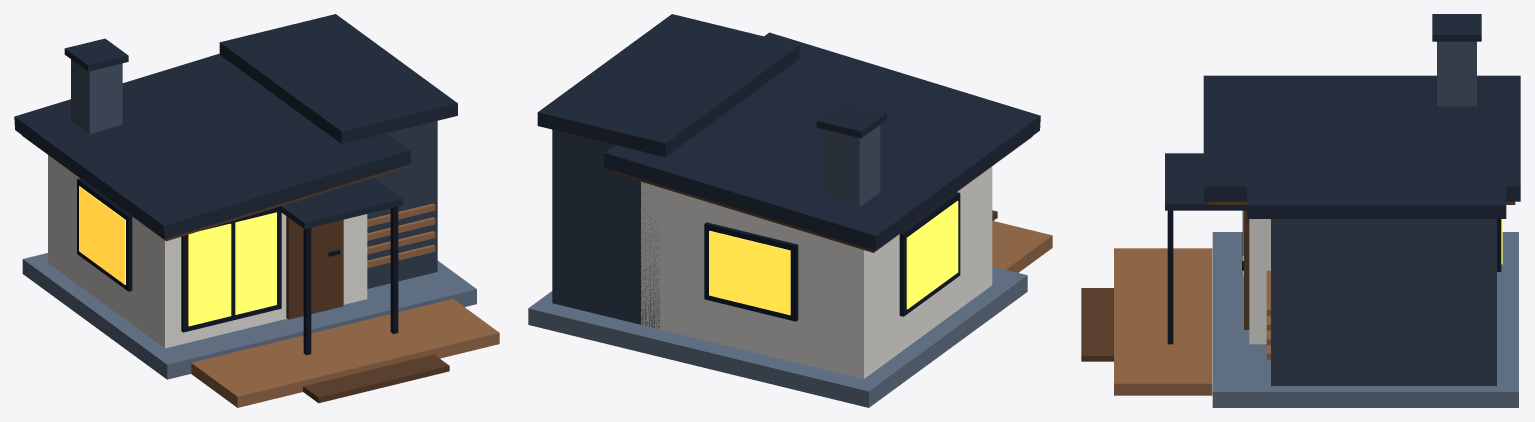
The model's file is cabin.glb.
3 views of the same model, side by side, from view 1: azimuth 30°, elevation 25°; view 2: azimuth 150°, elevation 25°; view 3: azimuth 270°, elevation 25° (orthographic). The views are drawn at different scales.
Parts seen in each view (by area): view 1: ModernLakesideCabin; view 2: ModernLakesideCabin; view 3: ModernLakesideCabin.
Part boxes in pixels (box(x1,y1,x2,y2)): ModernLakesideCabin: box(14, 14, 499, 407); ModernLakesideCabin: box(528, 14, 1052, 407); ModernLakesideCabin: box(1081, 14, 1520, 407).
Bounding box in the file's own units: 5.33 × 3.73 × 6.03.
